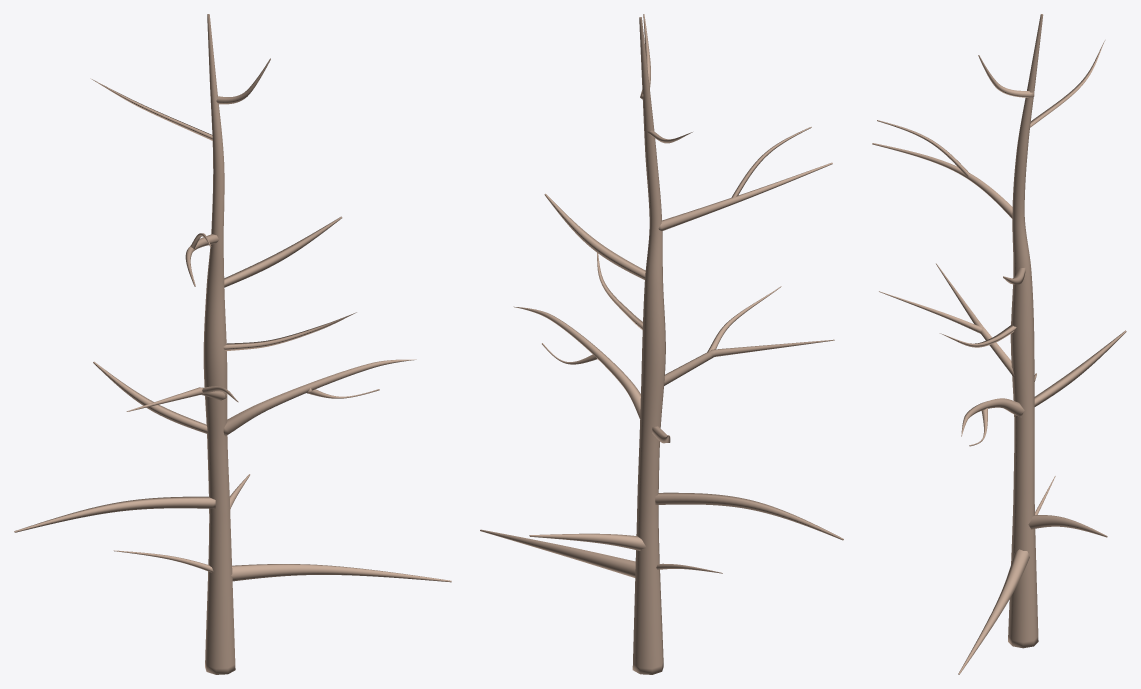
Rendered from pine_tree02.fbx.
3 renders of one model, left to right at view 1: azimuth 30°, elevation 25°; view 2: azimuth 150°, elevation 25°; view 3: azimuth 270°, elevation 25°, orthographic. The views are drawn at different scales.
Parts seen in each view (by area): view 1: tree, branch; view 2: tree, branch; view 3: tree, branch.
Boxes of the visible parts, box(x1,y1,x2,y2) form: tree: box(14, 14, 416, 674); branch: box(231, 564, 451, 582); tree: box(513, 14, 843, 674); branch: box(480, 529, 635, 577); tree: box(872, 14, 1126, 648); branch: box(958, 549, 1029, 674).
Size of the model in its own units: 332 by 518 by 191.
